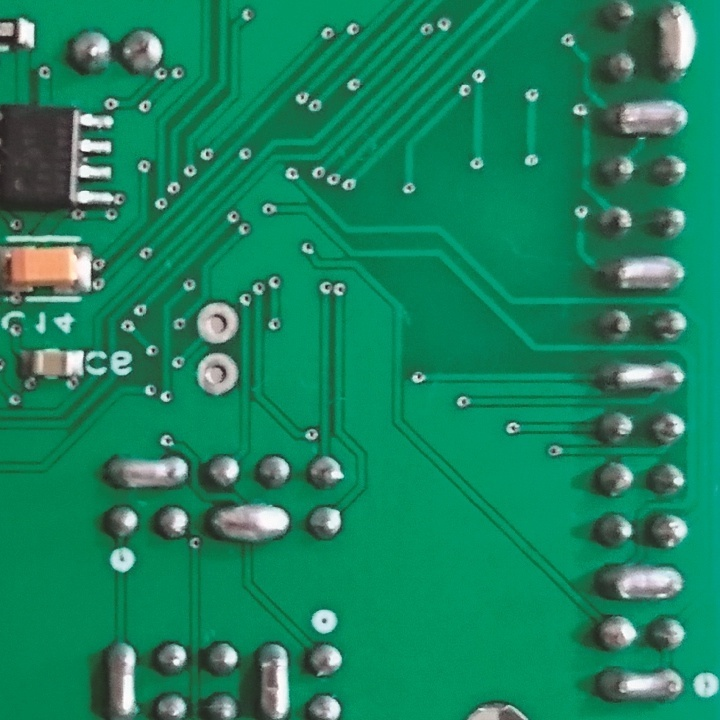F: (193, 351, 242, 400), (194, 296, 240, 348)
P: (595, 663, 686, 711), (592, 561, 686, 606), (653, 1, 701, 86), (204, 500, 293, 543), (599, 253, 690, 295), (594, 358, 691, 397), (600, 99, 694, 139), (254, 642, 299, 720), (103, 637, 144, 720), (104, 454, 195, 491)
